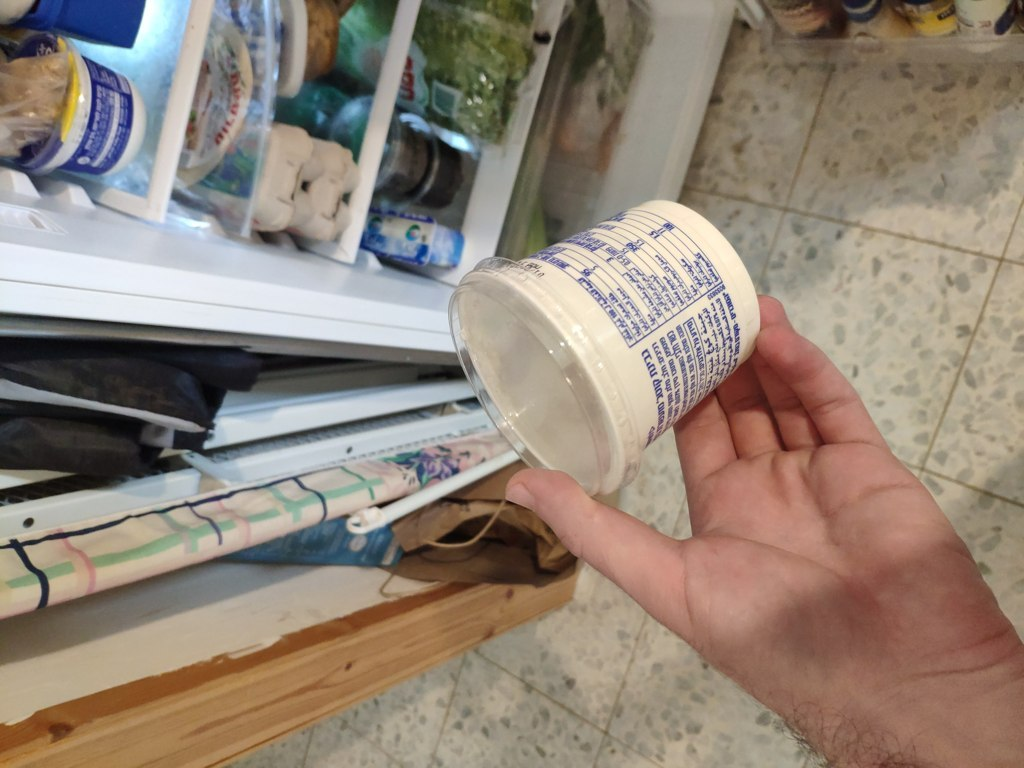Cotage: (442, 223, 767, 480)
